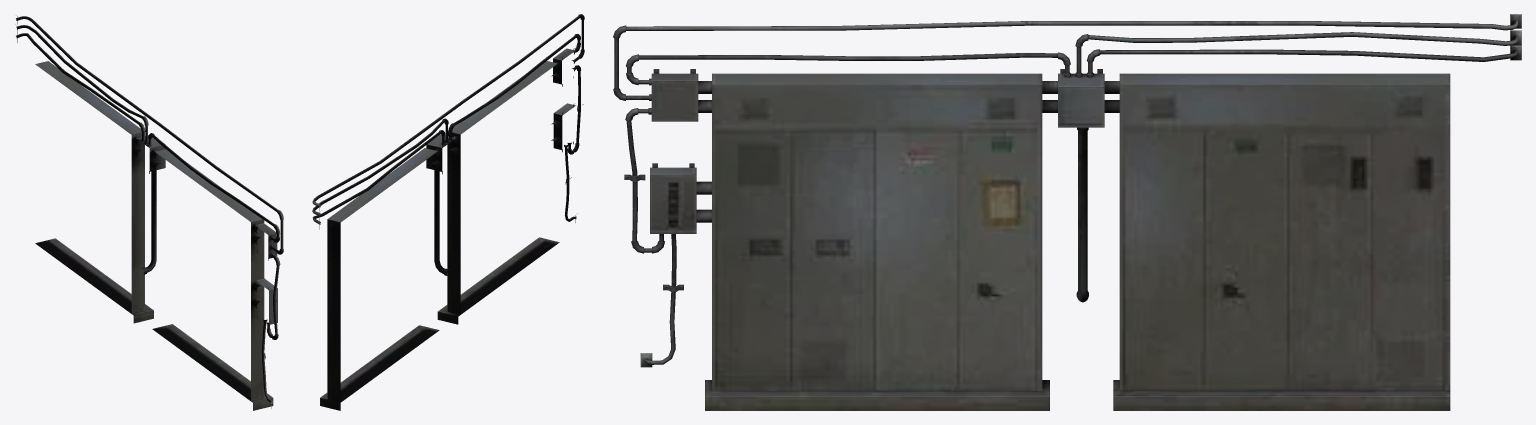
Rendered from electricalbox01.glb.
3 renders of one model, left to right at view 1: azimuth 30°, elevation 25°; view 2: azimuth 150°, elevation 25°; view 3: azimuth 270°, elevation 25°, orthographic. The views are drawn at different scales.
Parts seen in each view (by area): view 1: 0_ElectricalBox01; view 2: 0_ElectricalBox01; view 3: 0_ElectricalBox01.
Part boxes in pixels (<box>): 0_ElectricalBox01: <box>15,15,283,410</box>; 0_ElectricalBox01: <box>312,14,584,410</box>; 0_ElectricalBox01: <box>613,14,1521,410</box>.
Size of the model in its own units: 0.3178 by 3.24 by 7.03.
Materials: 1 (1 with a texture image).
